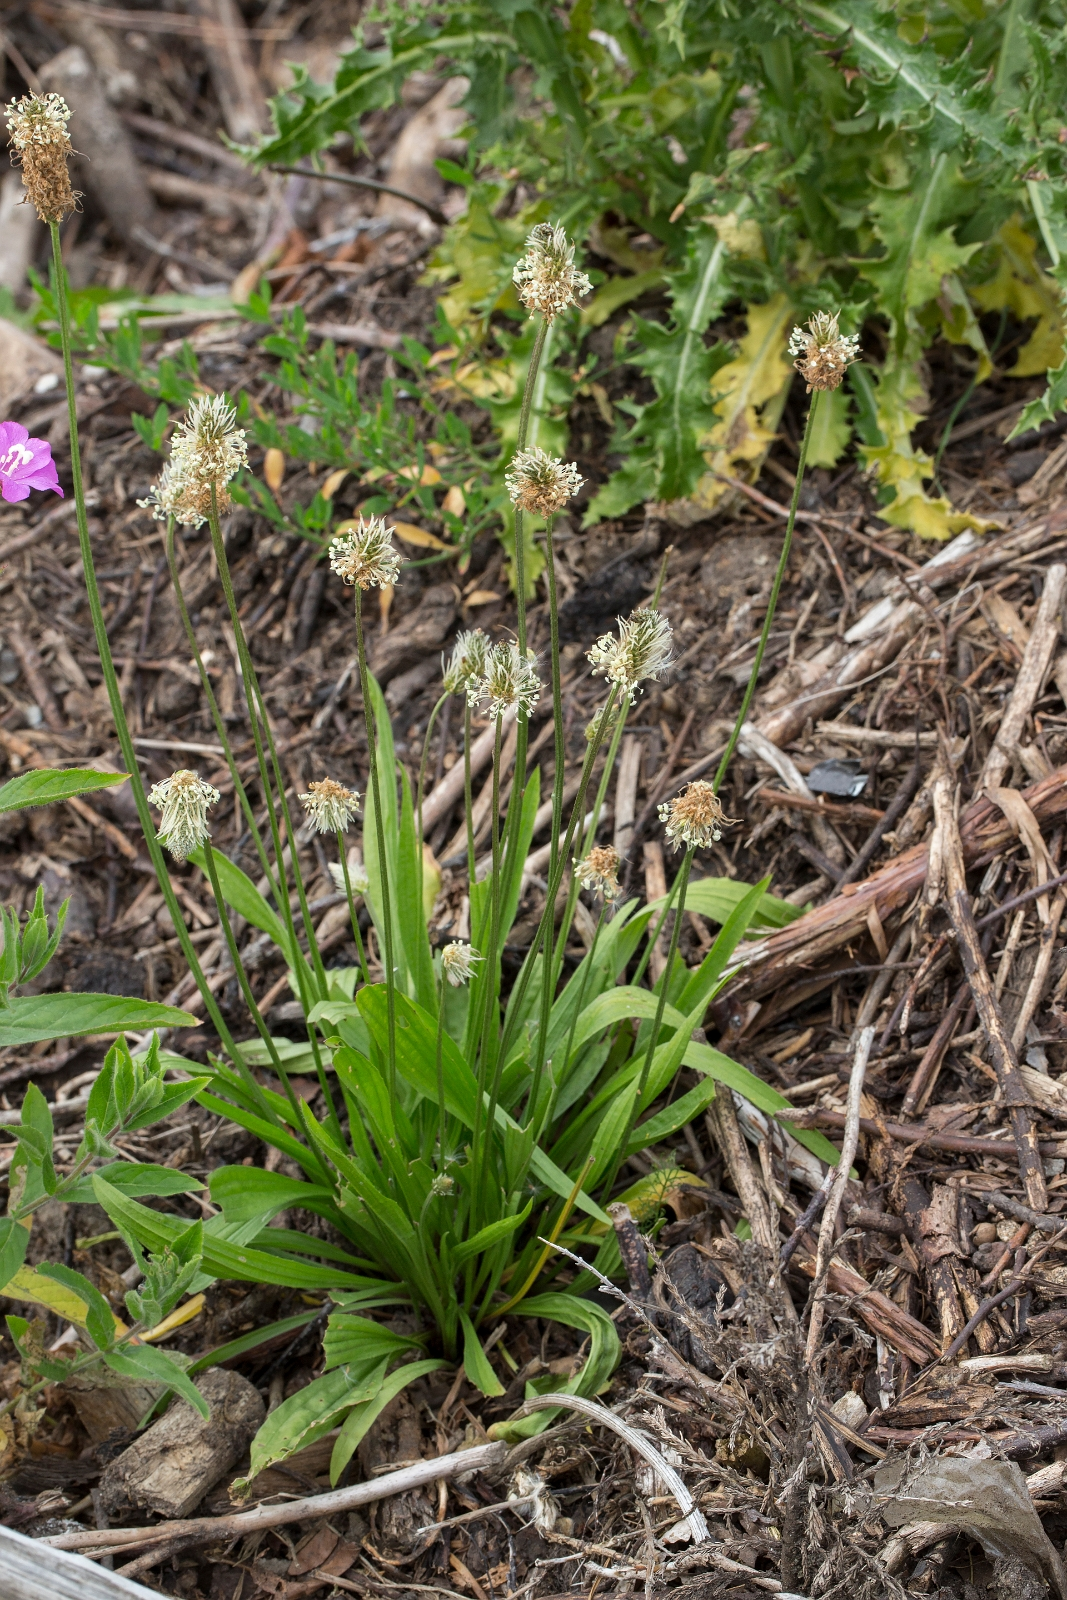buckhorn plantain: (6, 81, 828, 1345)
